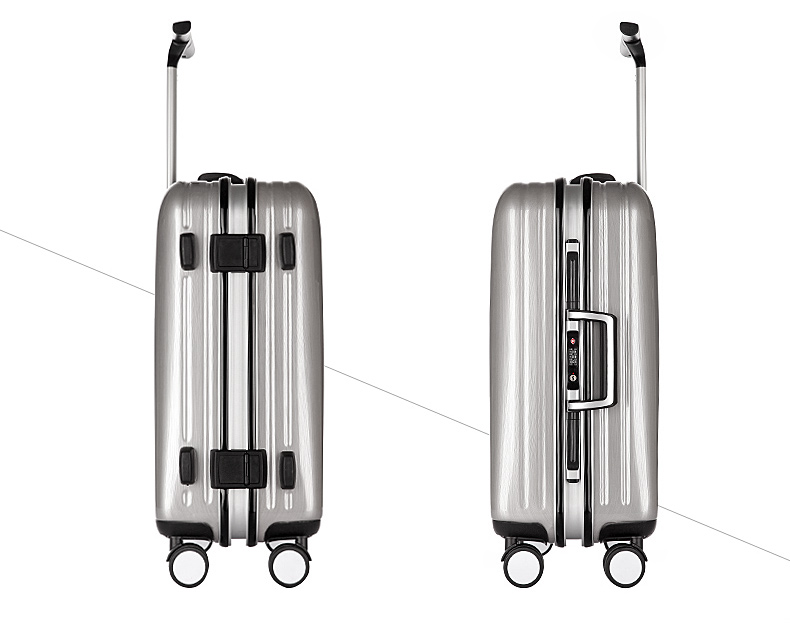luggage: (153, 19, 324, 589), (490, 22, 659, 590)
